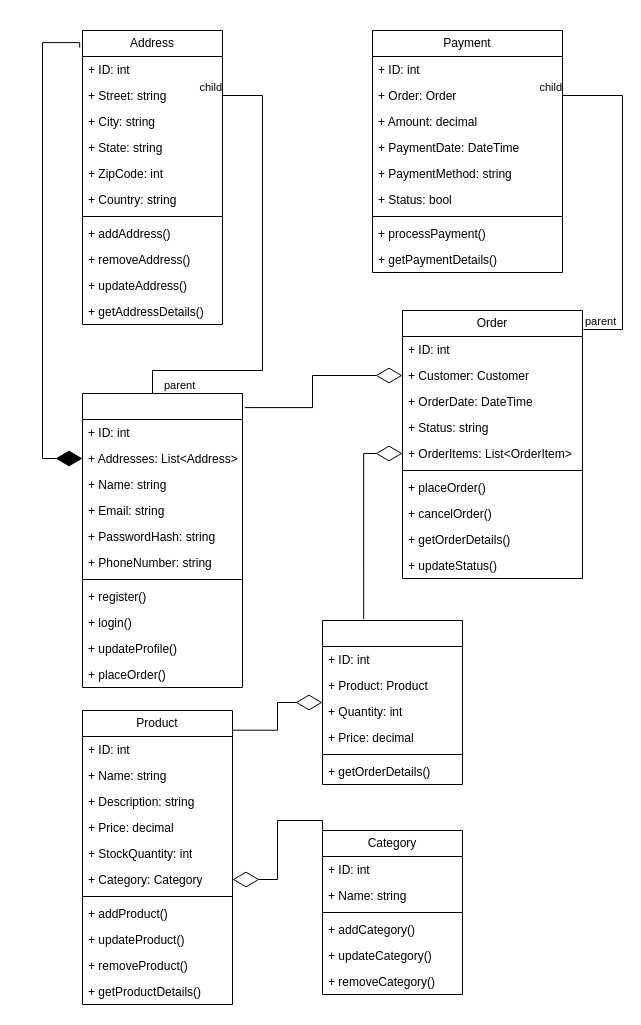
Some shapes in this 641 by 1025 pixel diagram are drawn without their labels. The shapes that lost their labels are listed below. From the top down, each one's box as (x1, y1, x2, y2) in pixels, then its label:
(82, 392, 242, 688): Customer
(322, 620, 462, 784): OrderItem
